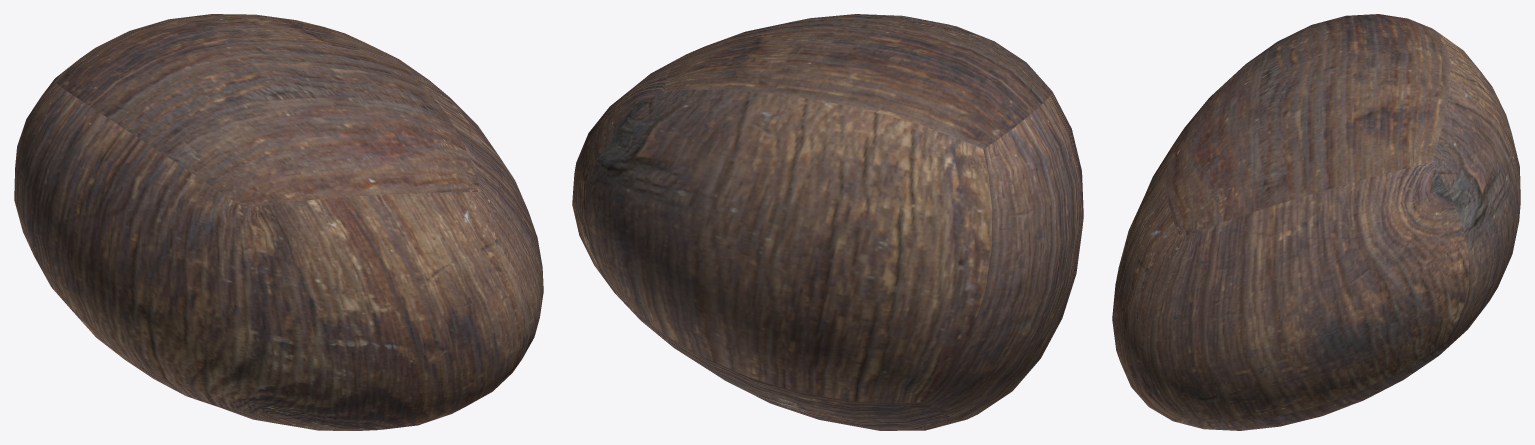
Rendered from woodstone.glb.
3 views of the same model, side by side, from view 1: azimuth 30°, elevation 25°; view 2: azimuth 150°, elevation 25°; view 3: azimuth 270°, elevation 25° (orthographic). The views are drawn at different scales.
Visible parts, largest first — view 1: Cube; view 2: Cube; view 3: Cube.
Boxes of the visible parts, x1=… form: Cube: x1=14, y1=14, x2=543, y2=430; Cube: x1=572, y1=14, x2=1083, y2=430; Cube: x1=1112, y1=14, x2=1520, y2=430.
Bounding box in the file's own units: 2.09 × 1.65 × 1.86.
1 material, 1 textured.
